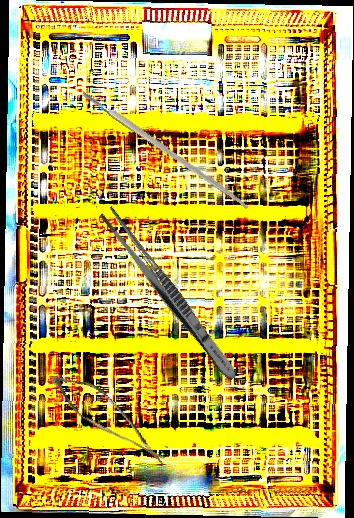Dressing Forceps: (96, 204, 243, 385)
Micro Scissor: (38, 367, 185, 467)
Scalpel Handle: (80, 88, 251, 211)
